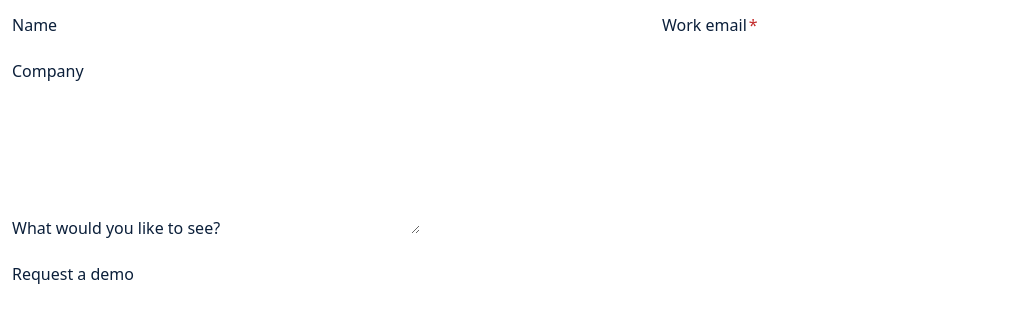
LeadForm › asks for an email before it sends anything
Click the button "Request a demo".
click(73, 274)  # box [12,261,134,287]
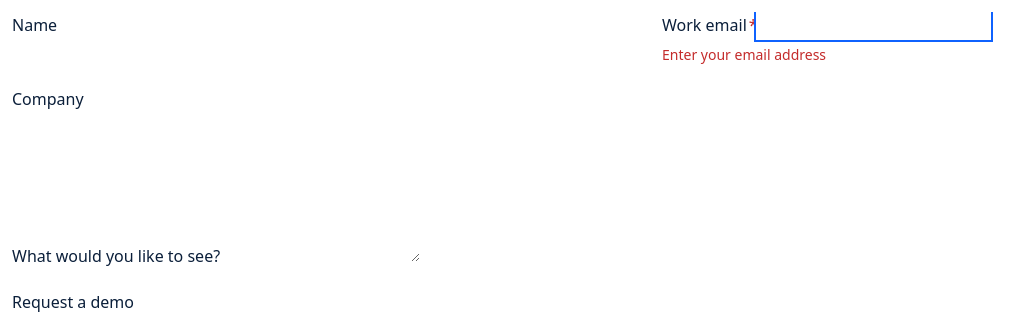
Check: the text "Enter your email address" is shown, box [662,45,826,64]
